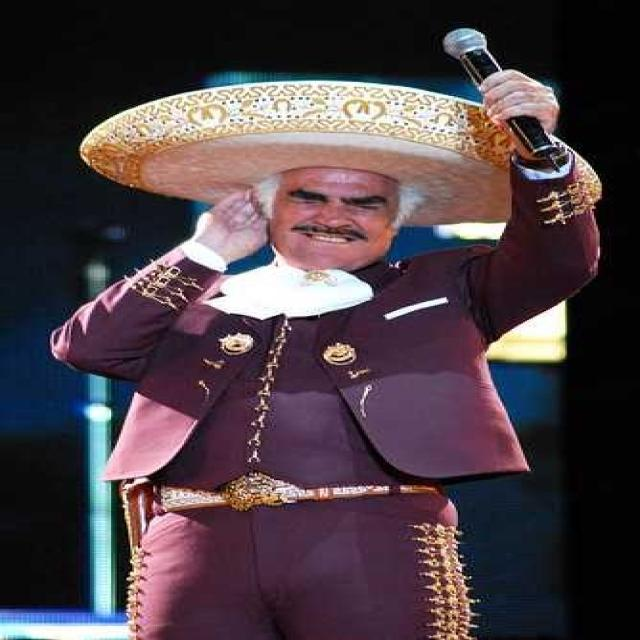microphone: (441, 26, 569, 170)
